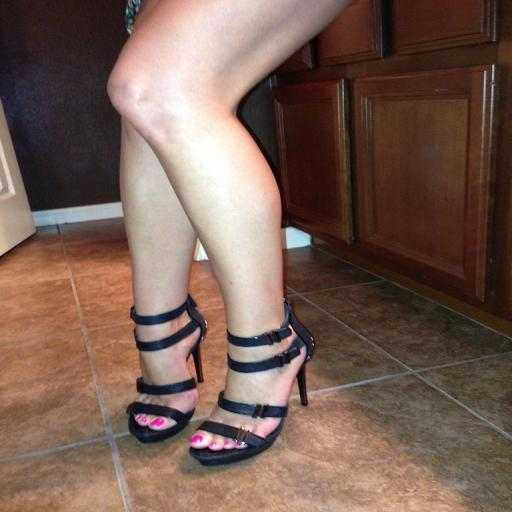heels: (189, 300, 314, 466), (126, 295, 206, 443)
